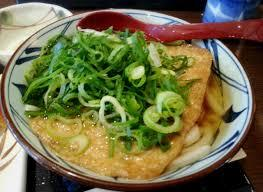kitune: (15, 11, 253, 177)
